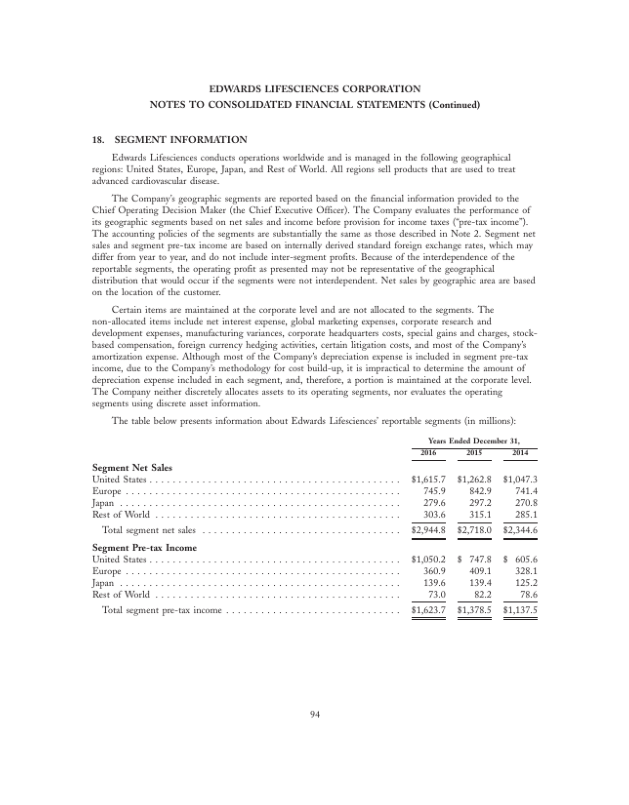table: (410, 435, 539, 622)
